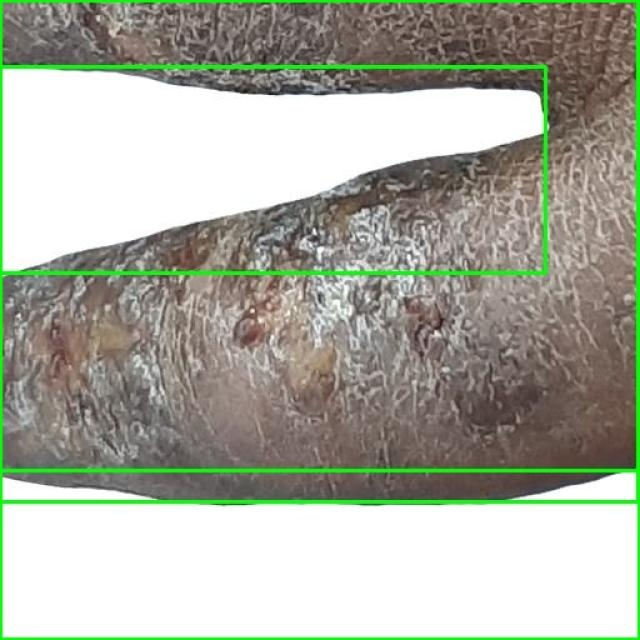Eczema: (0, 0, 639, 502), (0, 66, 546, 274), (0, 470, 639, 639)
